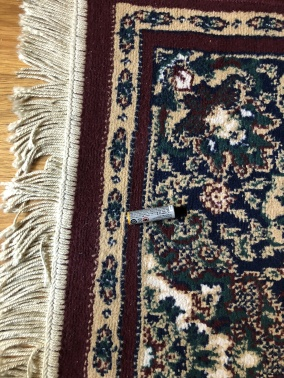battery: (120, 199, 179, 232)
